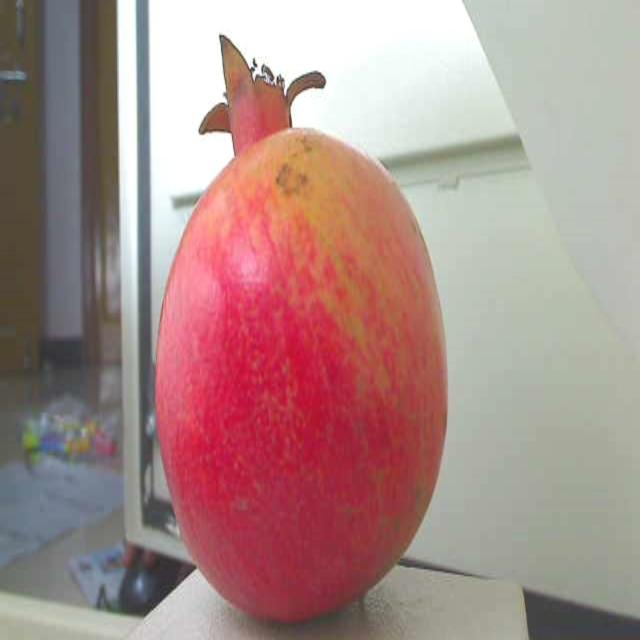pomegranate: (139, 33, 459, 640)
